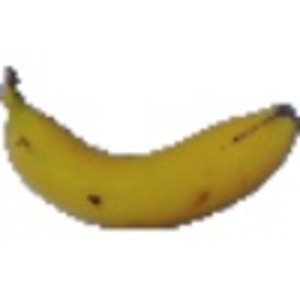banana: (1, 62, 295, 233)
